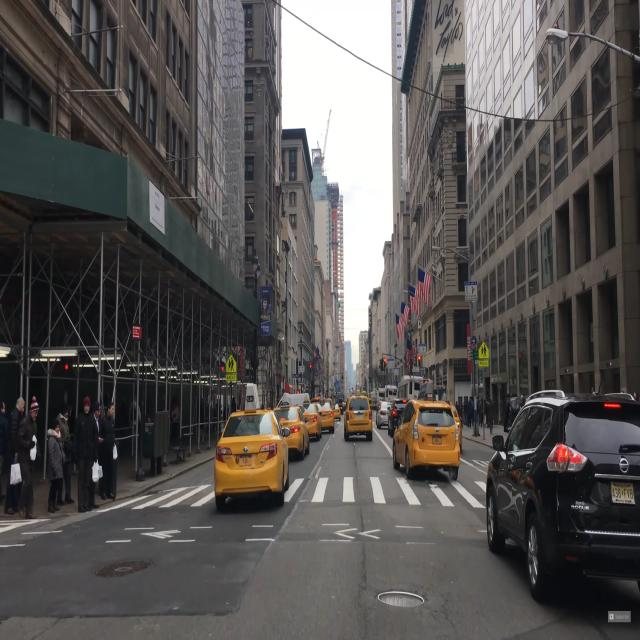Crosswalk: (284, 473, 487, 511), (101, 485, 214, 510)
